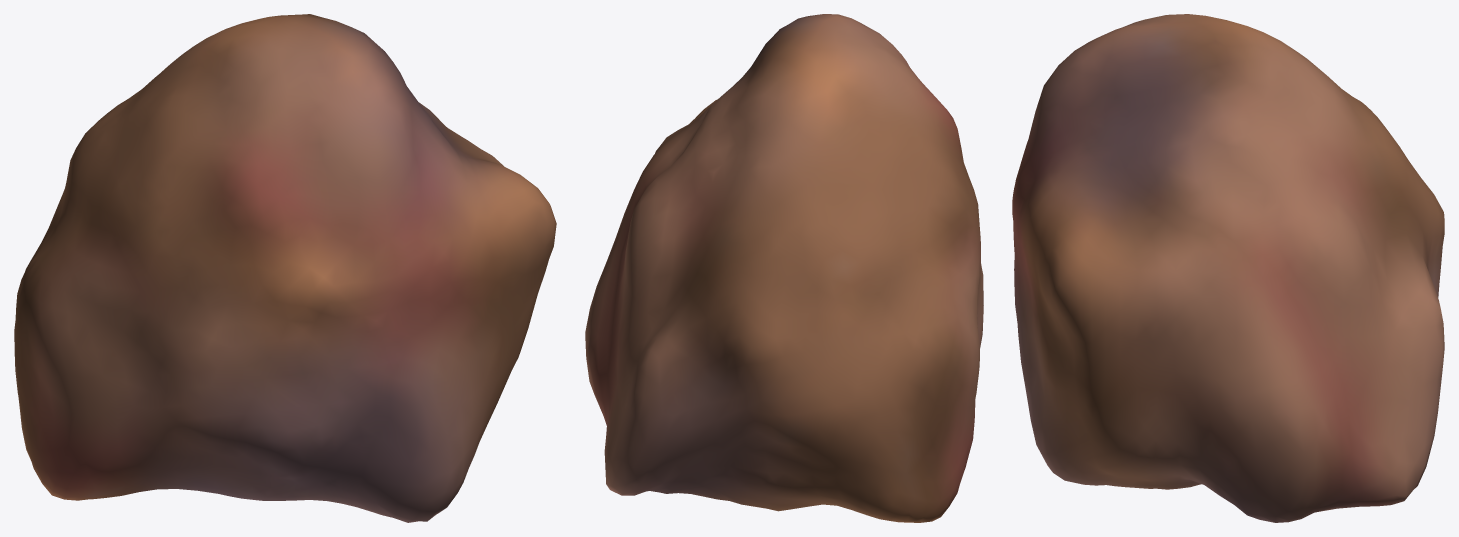
Rendered from PC_Stone_01.fbx.
The picture shows the model from 3 angles, left to right: view 1: azimuth 30°, elevation 25°; view 2: azimuth 150°, elevation 25°; view 3: azimuth 270°, elevation 25°; orthographic projection. The views are drawn at different scales.
Visible parts, largest first — view 1: stone; view 2: stone; view 3: stone.
Part boxes in pixels (bbox=[...]): stone: bbox=[14, 14, 556, 522]; stone: bbox=[585, 14, 983, 522]; stone: bbox=[1012, 14, 1444, 522].
Size of the model in its own units: 2.68 by 2.84 by 2.56.
